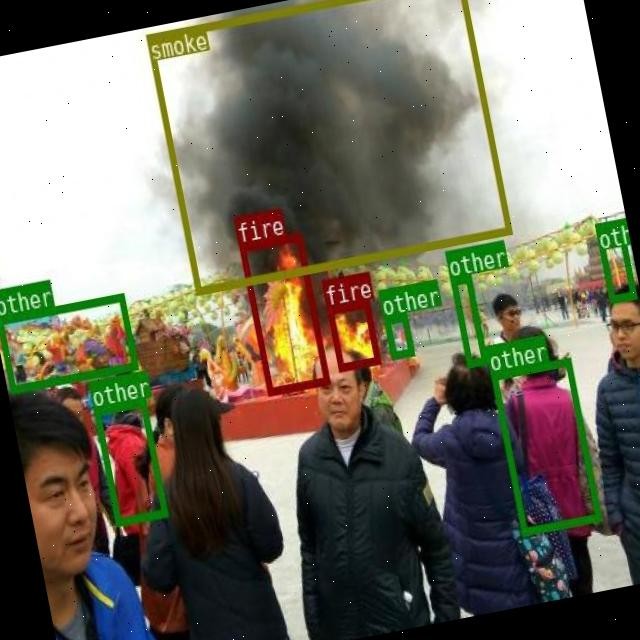fire: (238, 232, 329, 394), (326, 299, 379, 372)
smoke: (145, 0, 511, 294)
